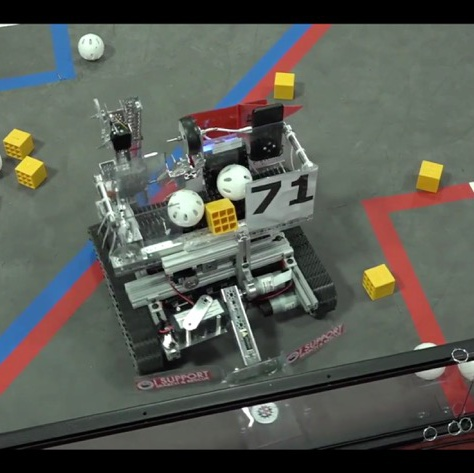robot: (82, 94, 343, 384)
